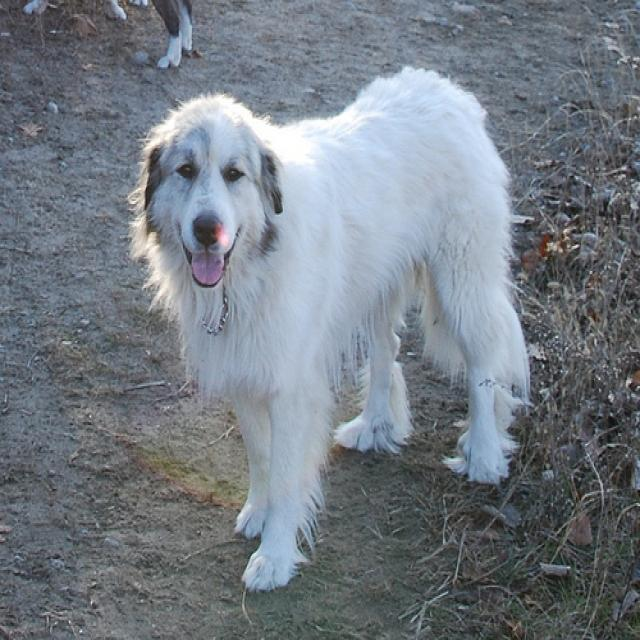dog-great_pyrenees: (119, 59, 538, 596)
